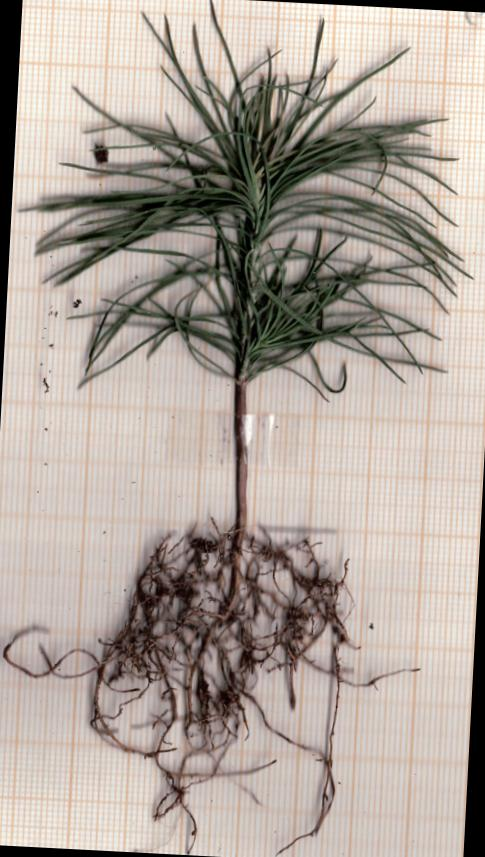flower: (32, 1, 462, 399)
root: (85, 520, 360, 851)
stem: (234, 383, 247, 530)
